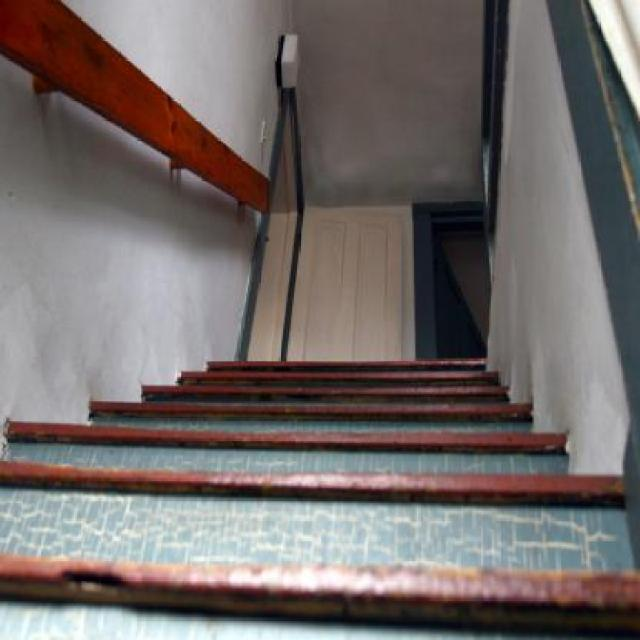stair: (0, 357, 640, 640)
